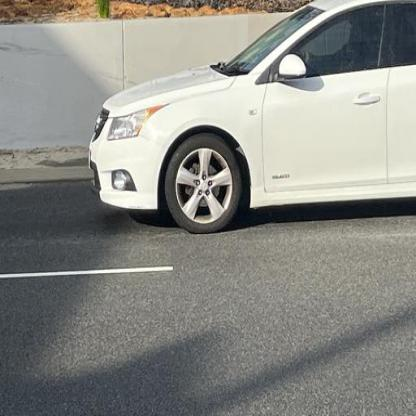Tire: (164, 130, 242, 233)
